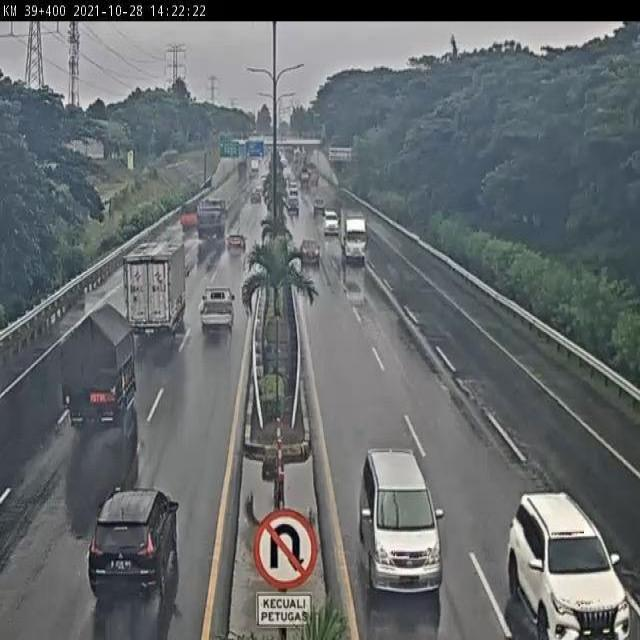car: (507, 489, 635, 640), (357, 440, 448, 597), (87, 484, 179, 597), (198, 284, 236, 339), (225, 229, 247, 255)
truck-l-: (125, 241, 190, 339), (195, 199, 228, 241)
truck-m-: (61, 300, 138, 427)
truck-s-: (339, 210, 368, 266), (178, 203, 199, 233)
